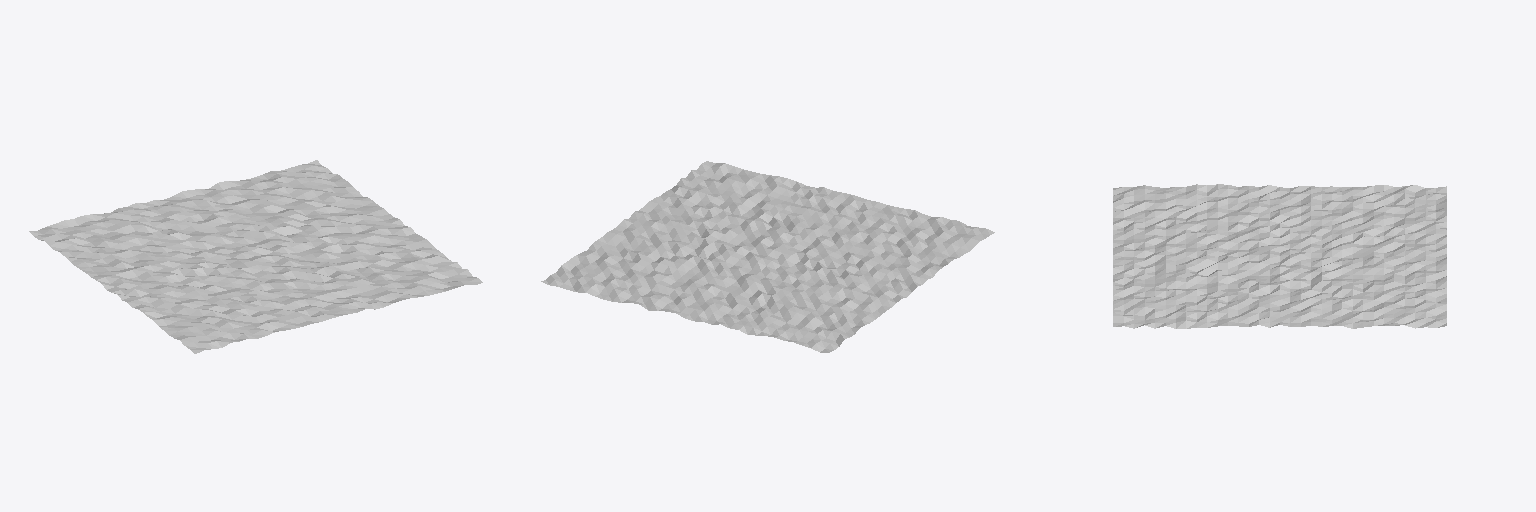
The model's file is noisyFloor.obj.
The picture shows the model from 3 angles: view 1: azimuth 30°, elevation 25°; view 2: azimuth 150°, elevation 25°; view 3: azimuth 270°, elevation 25°; orthographic projection.
Visible parts, largest first — view 1: Plane; view 2: Plane; view 3: Plane.
Boxes of the visible parts, box(x1,y1,x2,y2) form: Plane: box(29, 160, 482, 353); Plane: box(541, 161, 994, 352); Plane: box(1113, 184, 1446, 328).
Bounding box in the file's own units: 20 × 0.3669 × 20.